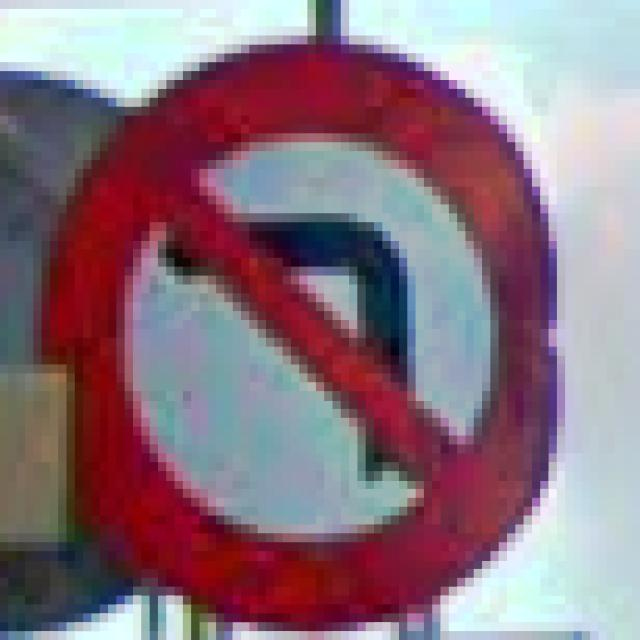noturnleft: (33, 27, 565, 622)
